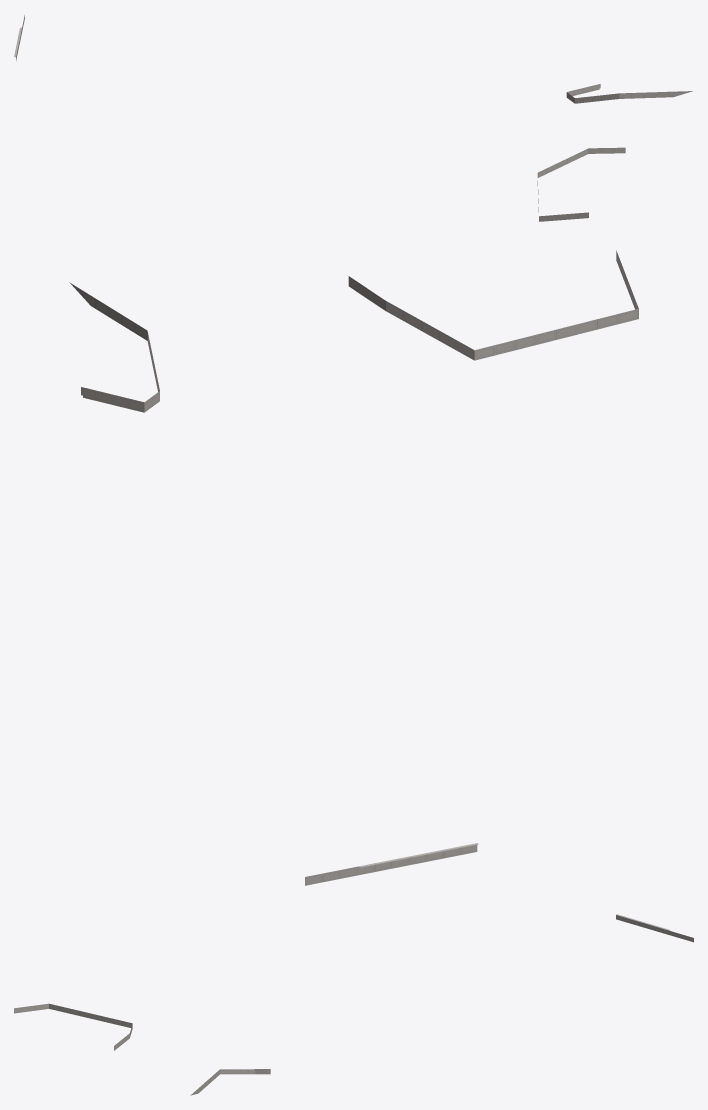
Rendered from kd_stage_13612f_4_29.glb.
The picture shows the model from 3 angles, top to bottom: view 1: azimuth 30°, elevation 25°; view 2: azimuth 150°, elevation 25°; view 3: azimuth 270°, elevation 25°; orthographic projection. The views are drawn at different scales.
Visible parts, largest first — view 1: kd_stage_13612f_4_29; view 2: kd_stage_13612f_4_29; view 3: kd_stage_13612f_4_29.
Part boxes in pixels (<box>): kd_stage_13612f_4_29: <box>14,15,692,221</box>; kd_stage_13612f_4_29: <box>69,250,638,885</box>; kd_stage_13612f_4_29: <box>14,914,693,1095</box>.
Size of the model in its own units: 83.7 by 5.2 by 118.
Materials: 1 (1 with a texture image).
